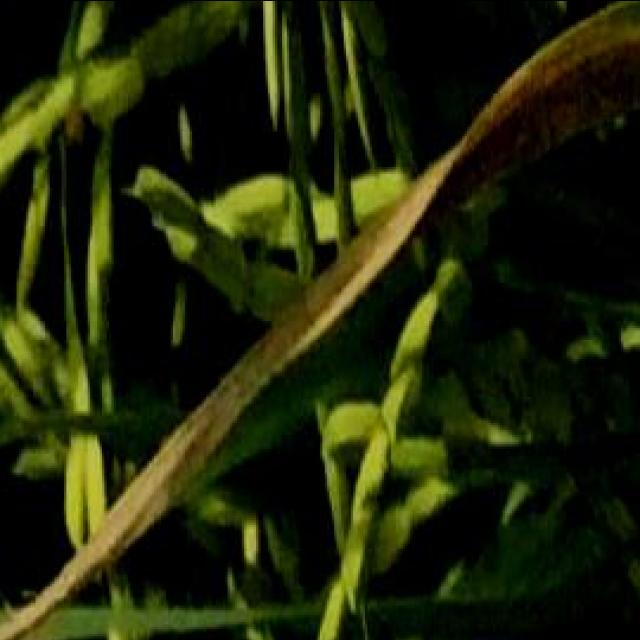Bacterial_Leaf_Blight: (95, 235, 405, 505)
